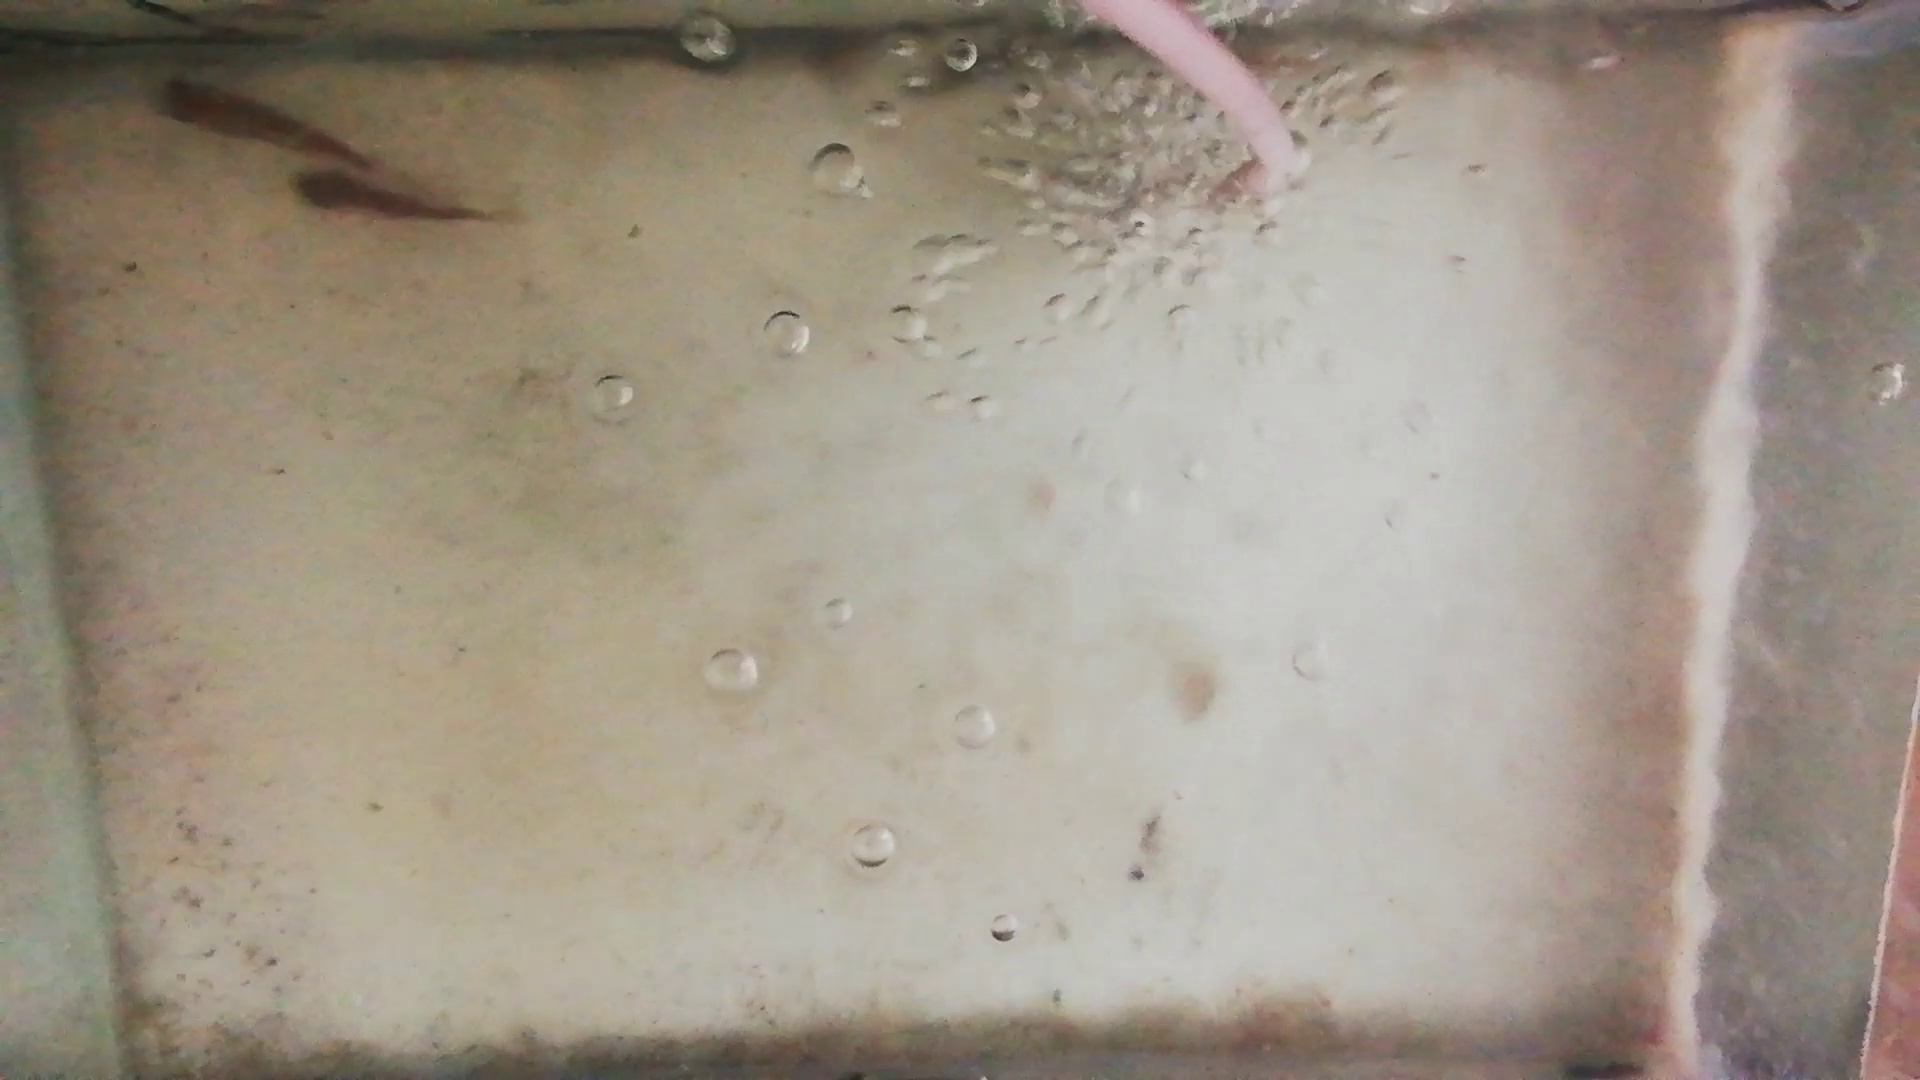fish: (150, 76, 369, 164), (284, 165, 487, 228)
